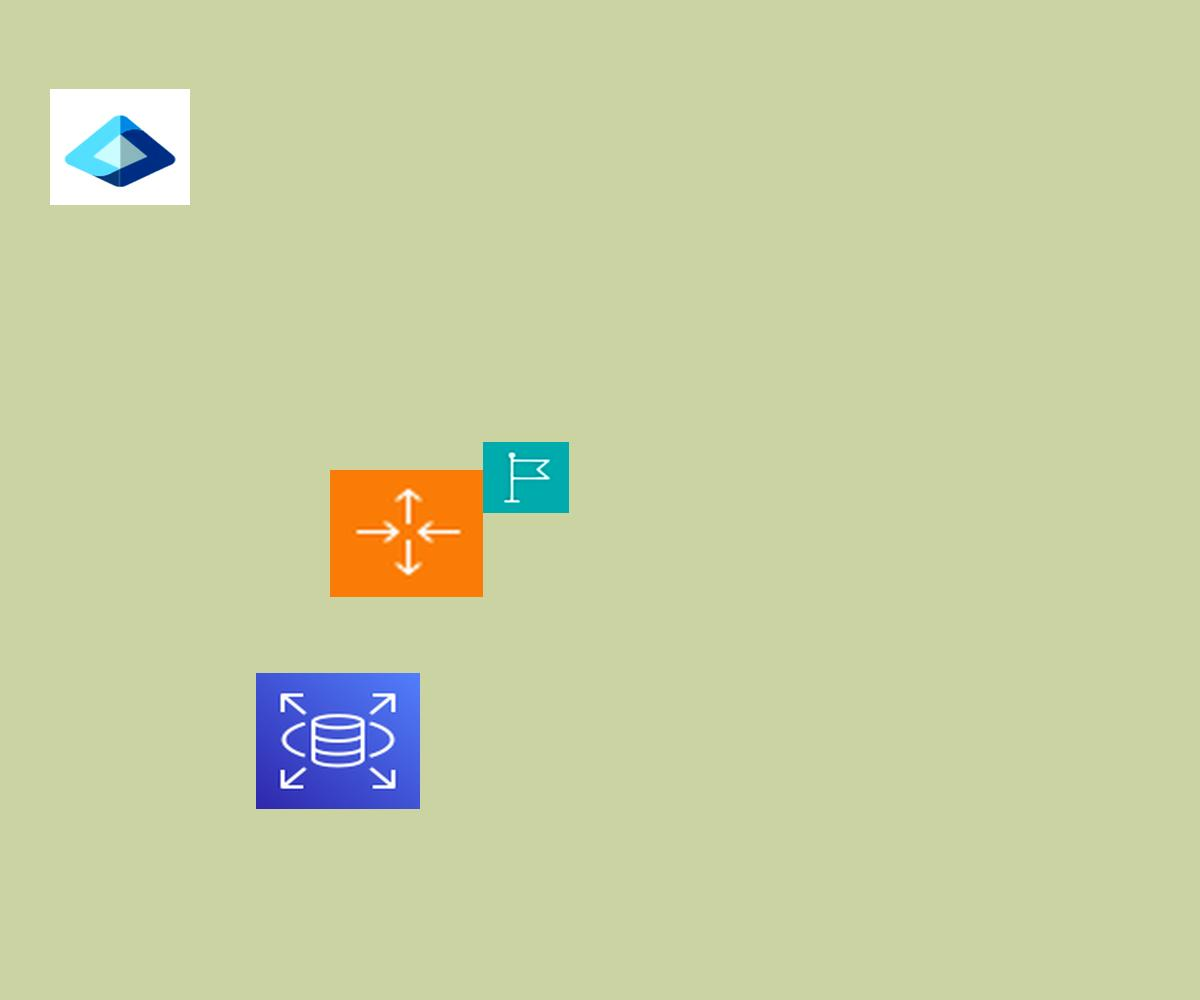AWS-RDS: (256, 673, 420, 809)
AWS-Region: (483, 442, 569, 513)
AWS-Scaling-group: (330, 470, 483, 597)
Azure_microsoft_entra: (50, 89, 190, 205)
